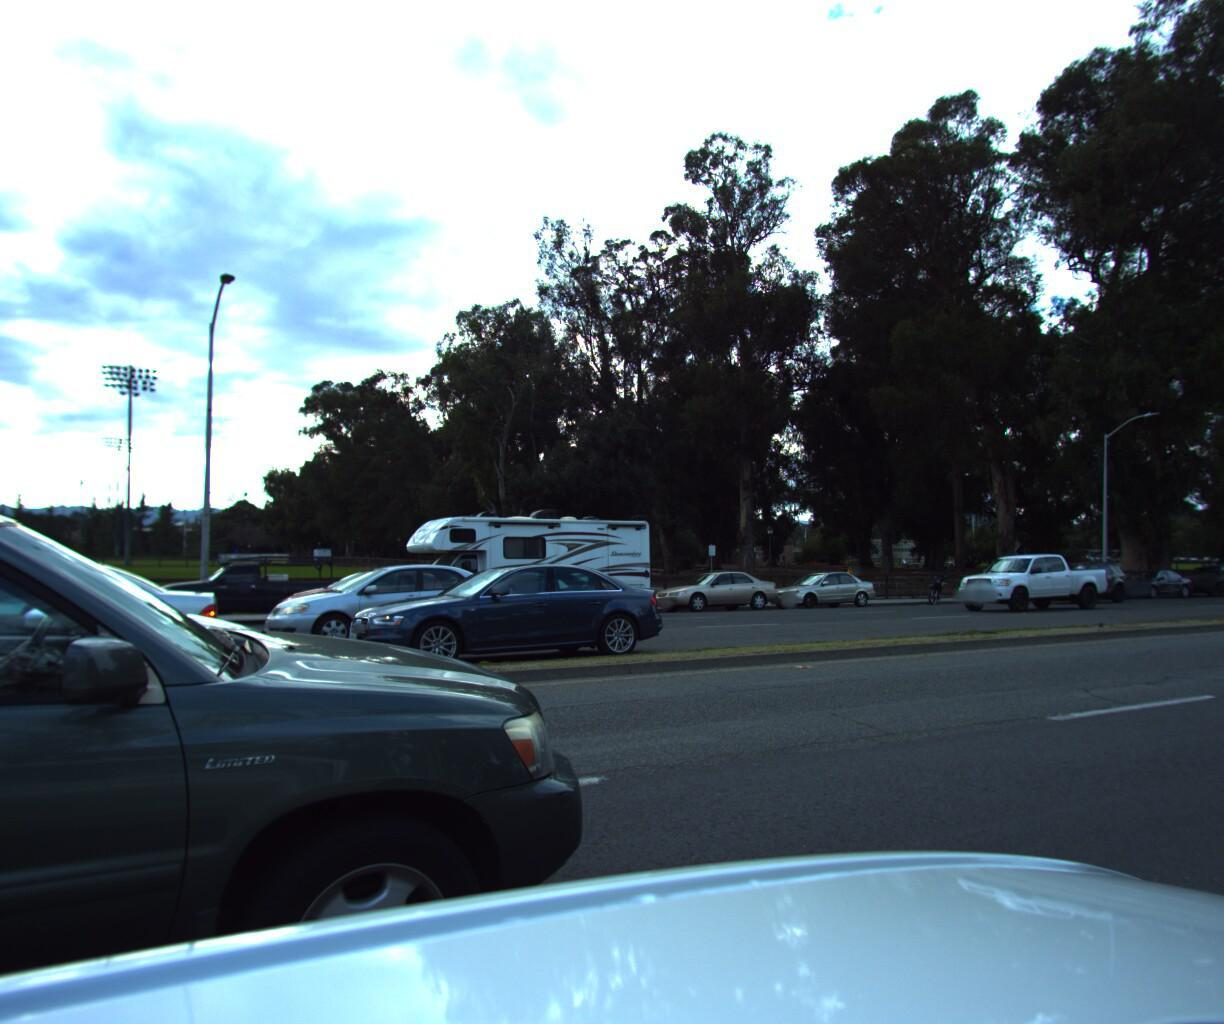car: (0, 330, 635, 1024), (0, 542, 362, 900), (329, 558, 687, 680), (0, 559, 242, 739), (260, 552, 544, 649), (144, 549, 345, 631), (273, 564, 493, 634), (944, 549, 1113, 614), (645, 566, 785, 613), (1020, 555, 1130, 600), (758, 565, 878, 606), (1098, 564, 1188, 598), (1158, 554, 1224, 595), (1216, 560, 1224, 592)
motorcycle: (920, 563, 952, 604)
other_vehicle: (379, 498, 658, 626)
